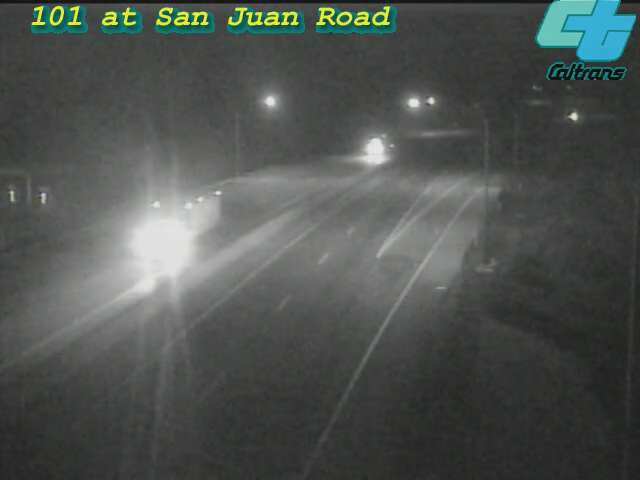vehicle: (137, 191, 217, 271), (348, 124, 398, 174), (548, 90, 598, 140)
